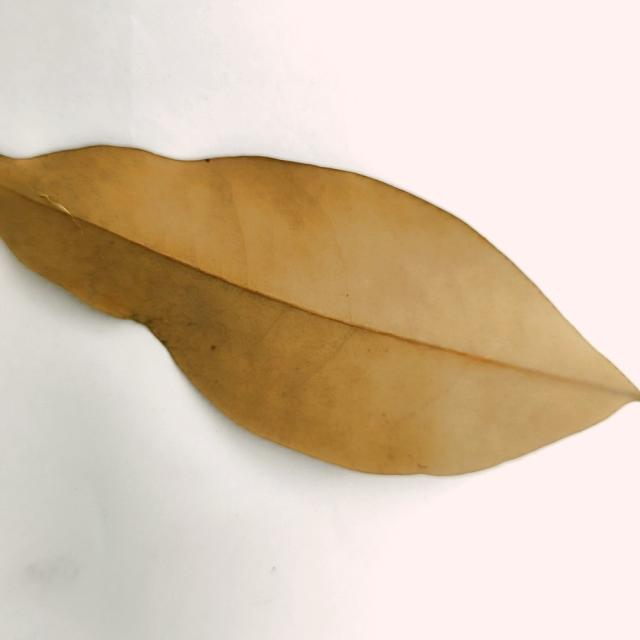Dry_Leaf-Lychee: (0, 145, 639, 479)
